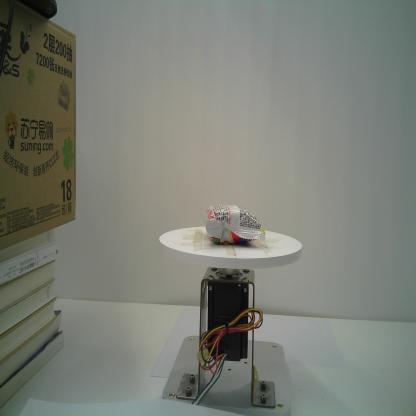Dessert: (205, 204, 267, 245)
